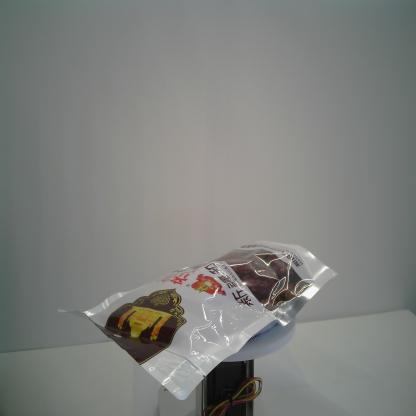Dried Food: (54, 237, 341, 404)
